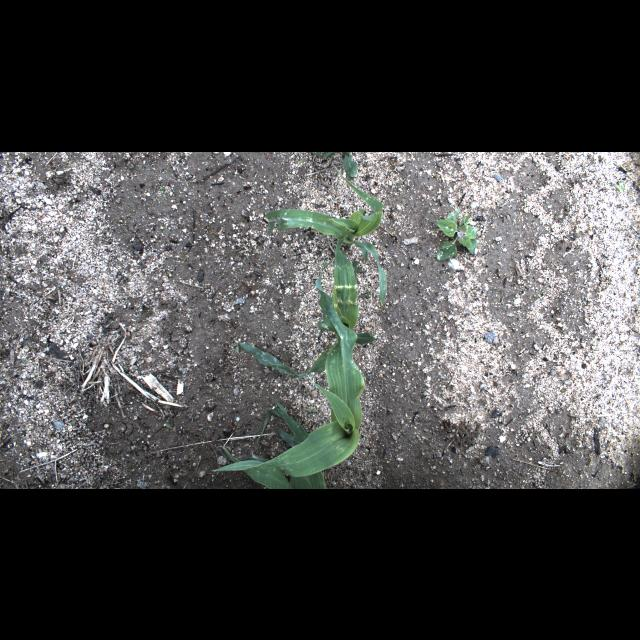crop: (210, 273, 368, 487), (234, 230, 376, 378), (264, 166, 386, 306), (256, 401, 330, 487)
weed: (436, 211, 478, 261), (306, 152, 358, 176), (158, 184, 164, 192)
